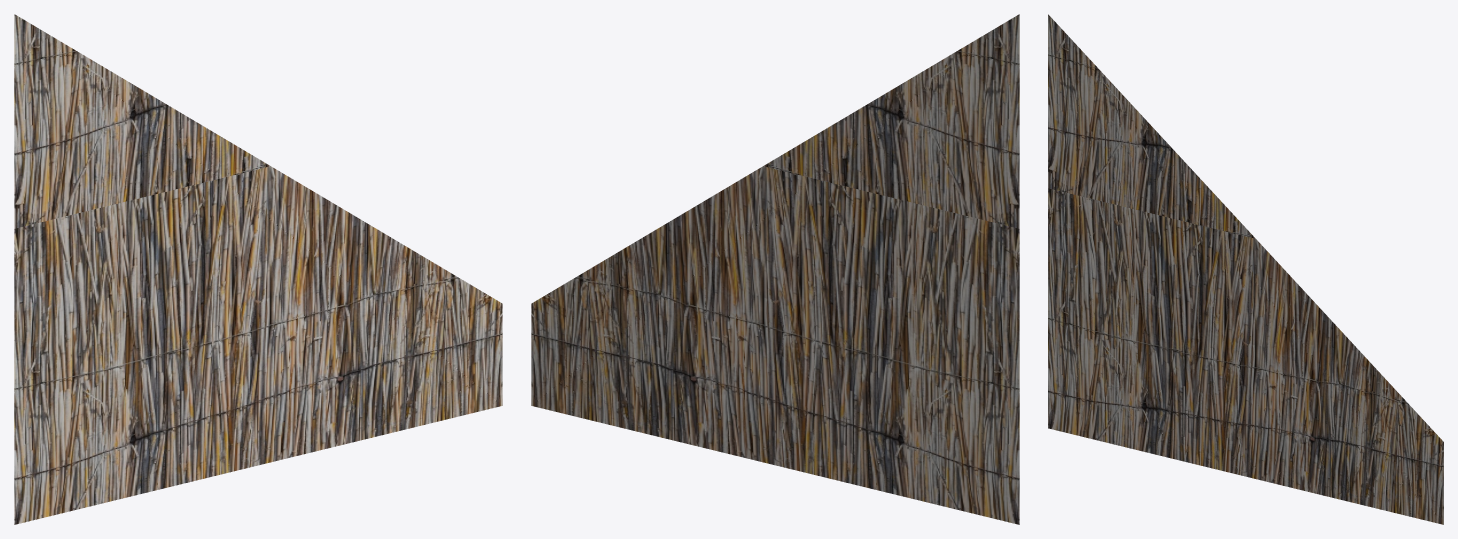
File: HouseBackWall1.fbx
The picture shows the model from 3 angles, left to right: view 1: azimuth 30°, elevation 25°; view 2: azimuth 150°, elevation 25°; view 3: azimuth 330°, elevation 25°; orthographic projection. The views are drawn at different scales.
Visible parts, largest first — view 1: BackWall1; view 2: BackWall1; view 3: BackWall1.
Boxes of the visible parts, x1,y1,x2,y2 form: BackWall1: (14,14,502,524); BackWall1: (531,14,1019,524); BackWall1: (1048,14,1443,524).
Bounding box in the file's own units: 250 × 250 × 4.07e-05.
